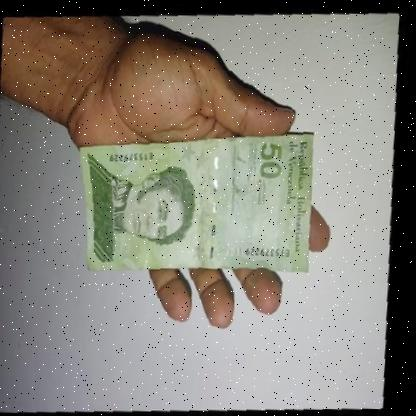fifty-front-vef: (72, 124, 321, 279)
